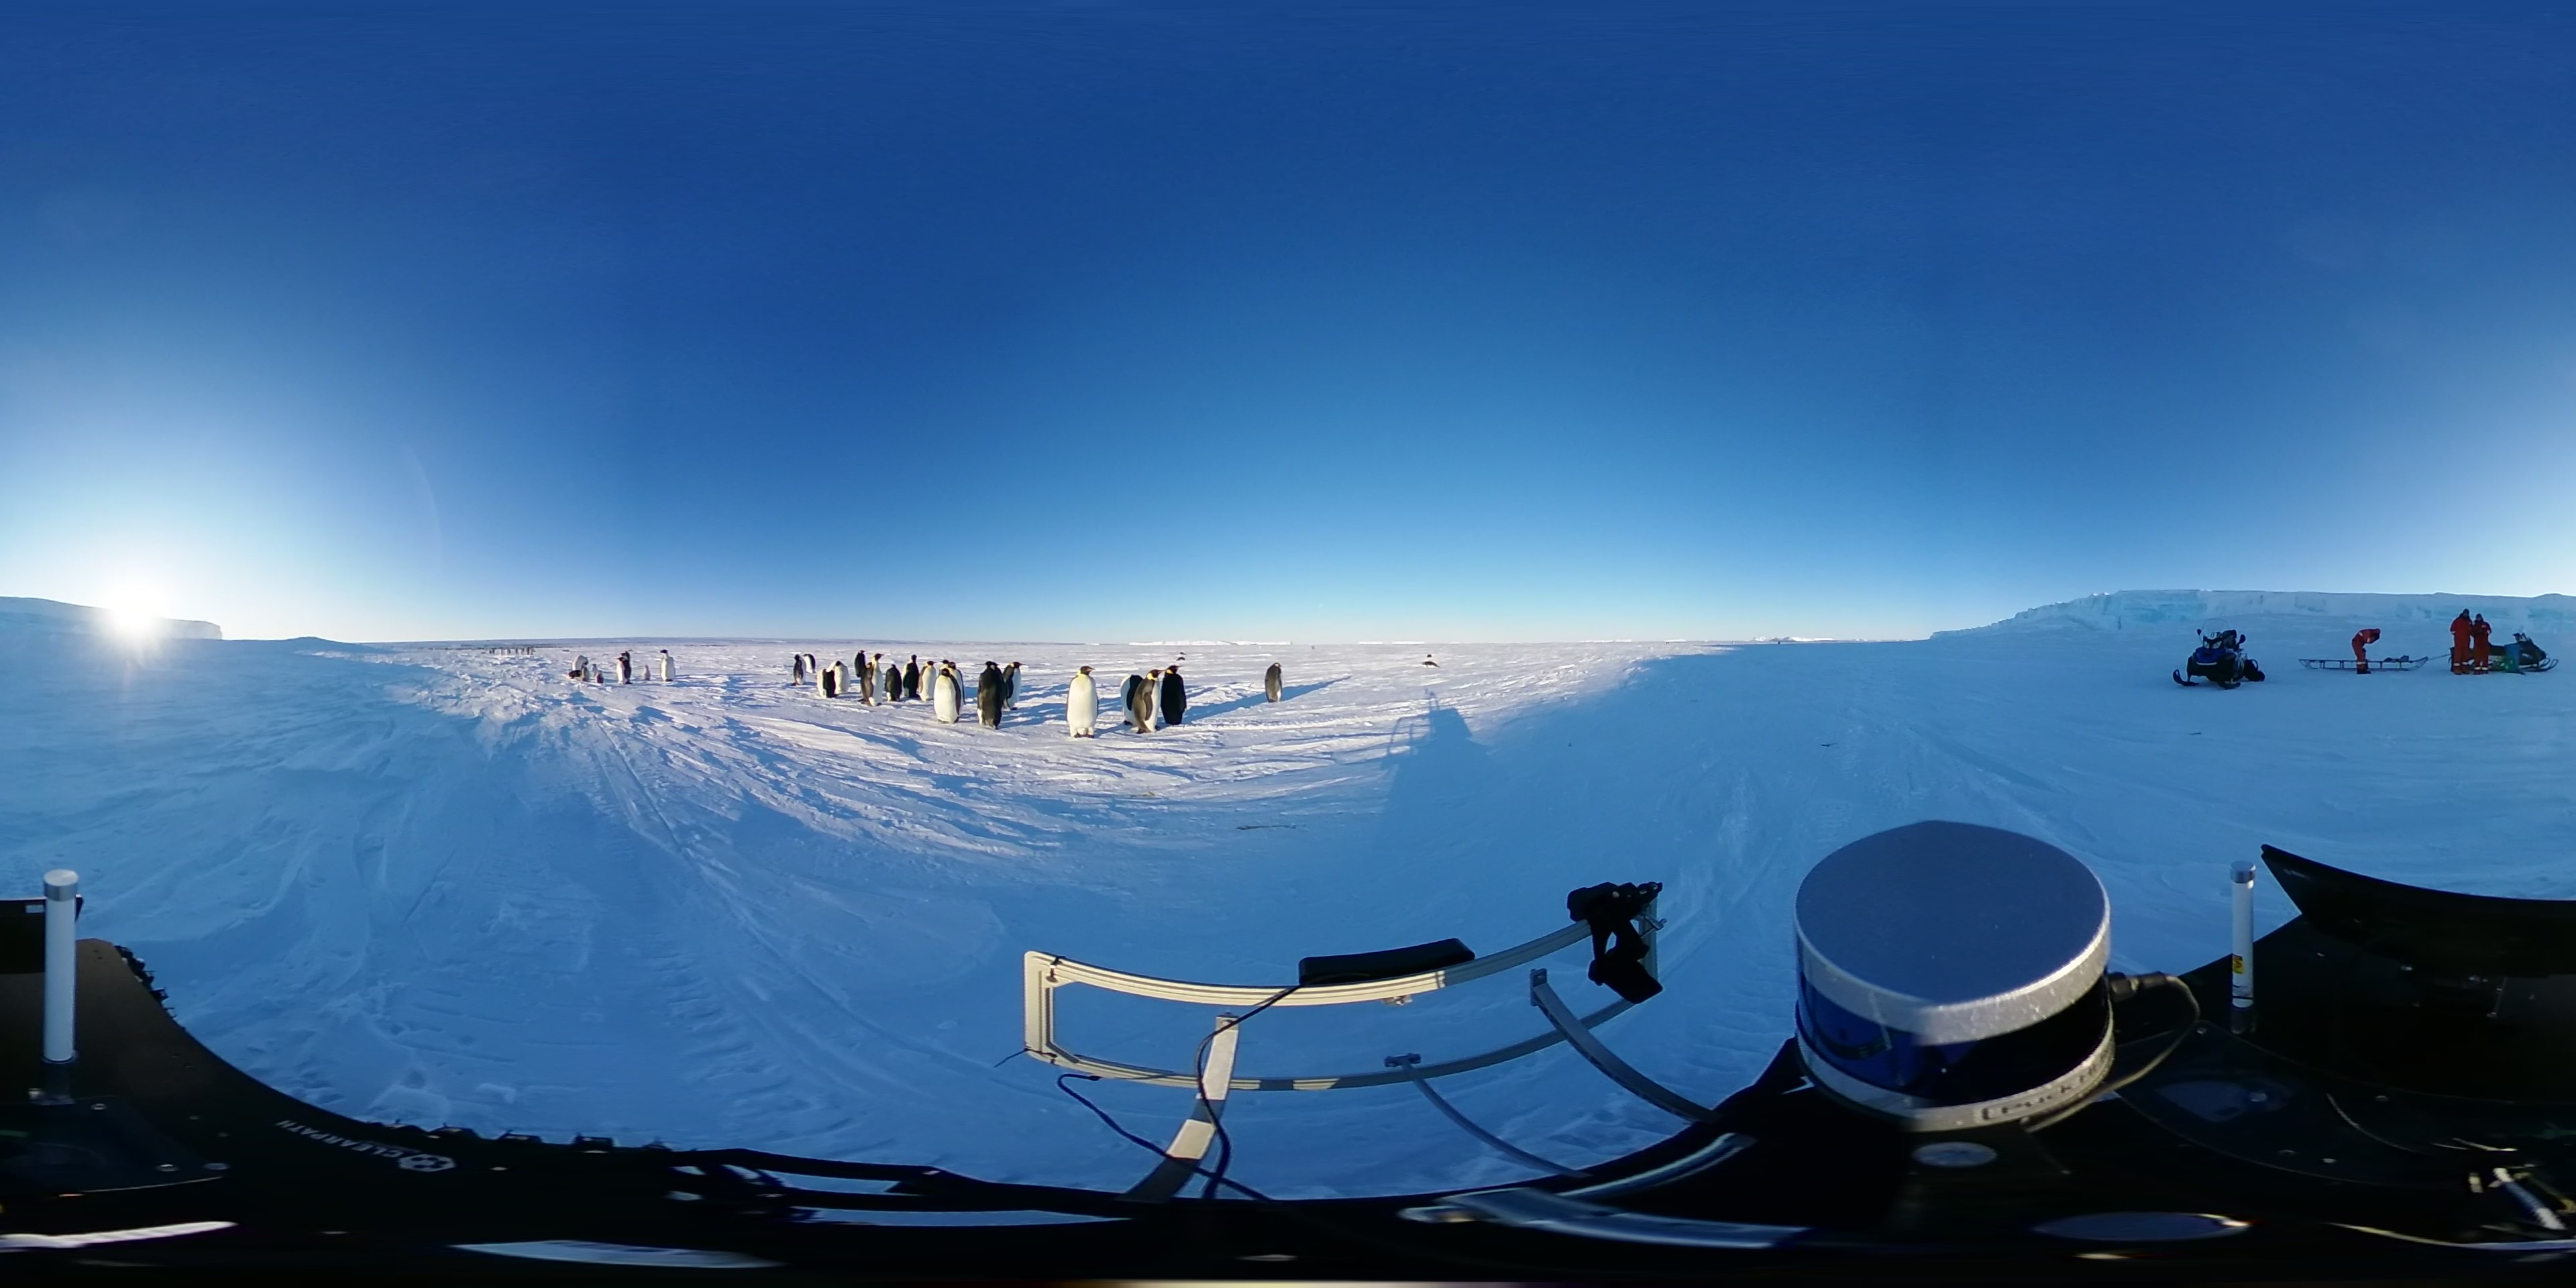adult_standing_penguin: (1065, 664, 1102, 743), (1132, 667, 1166, 739), (974, 659, 1005, 736), (1160, 662, 1189, 731), (933, 667, 966, 728), (861, 651, 889, 708), (1000, 659, 1025, 711), (1262, 659, 1286, 706), (918, 660, 941, 706), (902, 654, 923, 701), (884, 662, 905, 705), (831, 657, 853, 700), (614, 655, 636, 688), (853, 647, 867, 680)
adult_toboggan_penguin: (1419, 655, 1444, 672)
juvenile_penguin: (593, 670, 608, 687)
researcher: (2448, 608, 2474, 677), (2353, 626, 2385, 678), (2471, 611, 2494, 675)
